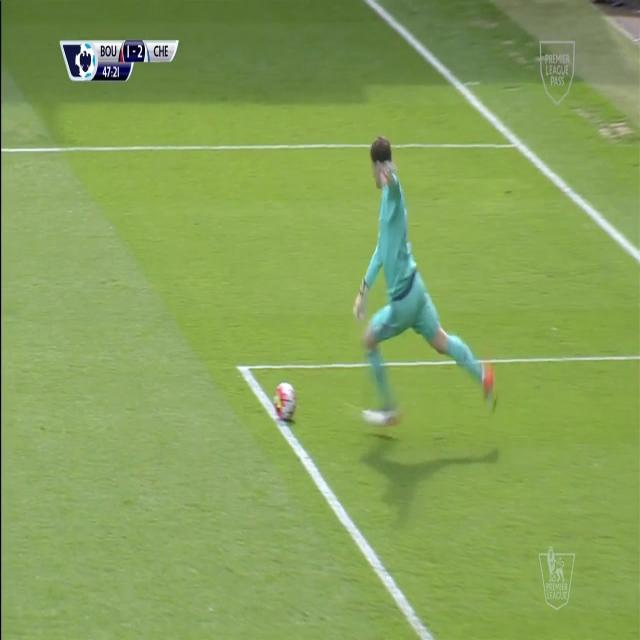Ball: (270, 378, 298, 425)
Goalkeeper: (351, 129, 502, 437)
